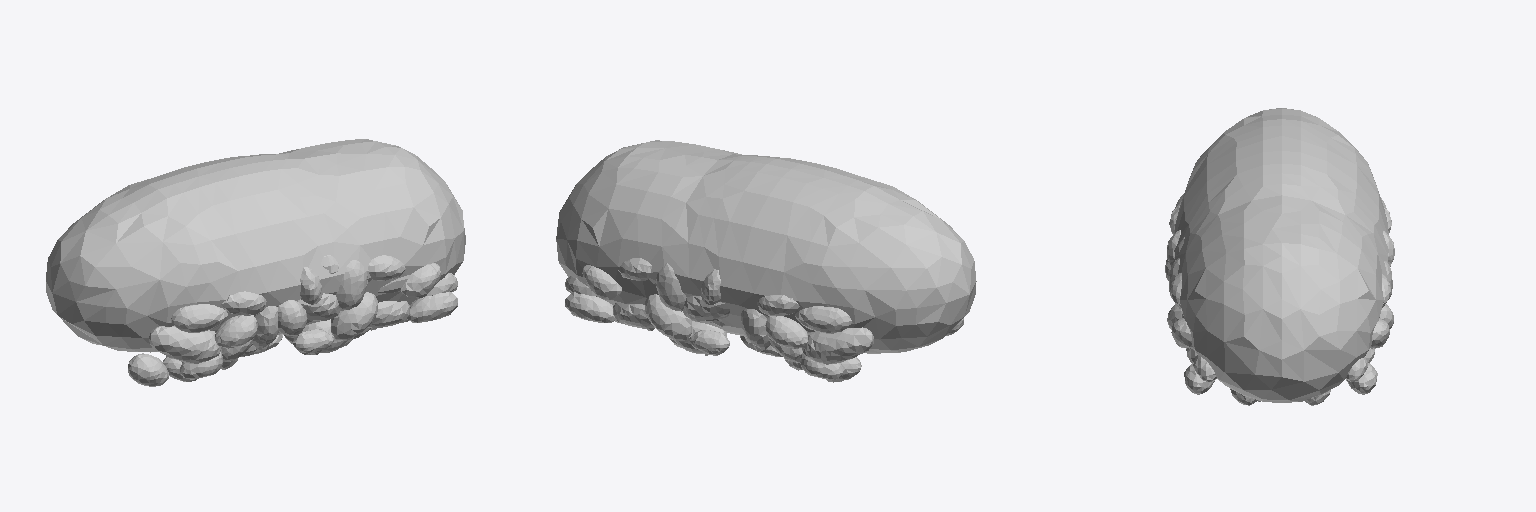
File: sumeshi.obj
The picture shows the model from 3 angles: view 1: azimuth 30°, elevation 25°; view 2: azimuth 150°, elevation 25°; view 3: azimuth 270°, elevation 25°; orthographic projection.
Size of the model in its own units: 0.6228 by 0.2737 by 0.3055.